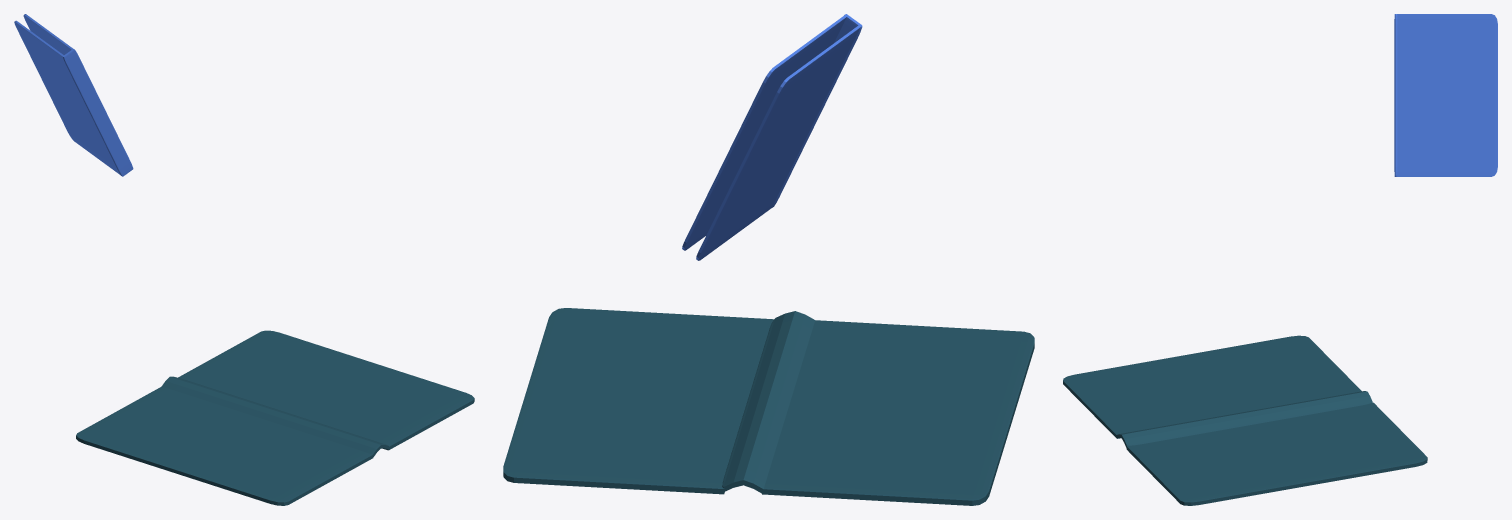
File: bluebooks.glb
3 renders of one model, left to right at view 1: azimuth 30°, elevation 25°; view 2: azimuth 150°, elevation 25°; view 3: azimuth 270°, elevation 25°, orthographic. The views are drawn at different scales.
Parts seen in each view (by area): view 1: Cube.005, Cube.012; view 2: Cube.005, Cube.012; view 3: Cube.005, Cube.012.
Boxes of the visible parts, bbox=[...] form: Cube.005: bbox=[76, 330, 474, 505]; Cube.012: bbox=[14, 14, 133, 176]; Cube.005: bbox=[503, 308, 1034, 505]; Cube.012: bbox=[682, 14, 862, 260]; Cube.005: bbox=[1063, 335, 1427, 505]; Cube.012: bbox=[1394, 14, 1497, 176].
Bounding box in the file's own units: 1.32 × 1.29 × 1.46.
